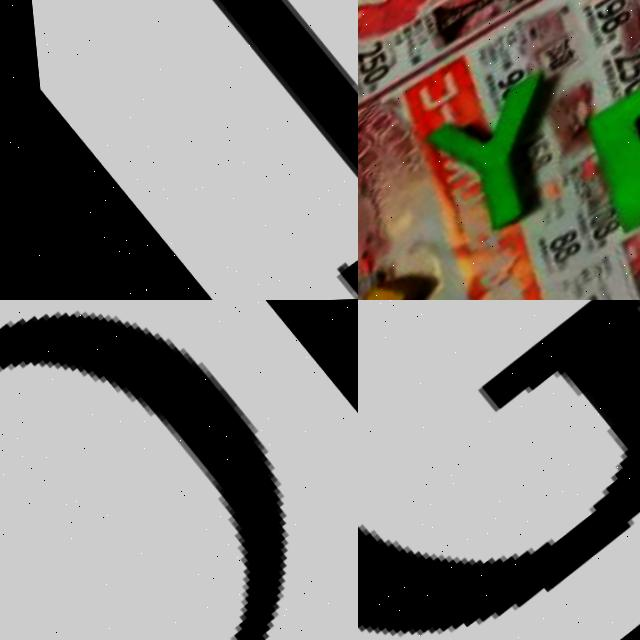F: (541, 36, 640, 243)
G: (358, 300, 640, 640)
J: (7, 0, 358, 300)
Q: (0, 300, 358, 640)
Y: (406, 57, 603, 239)
